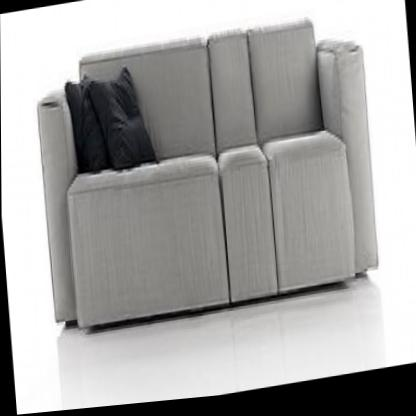Sofa: (33, 5, 382, 343)
